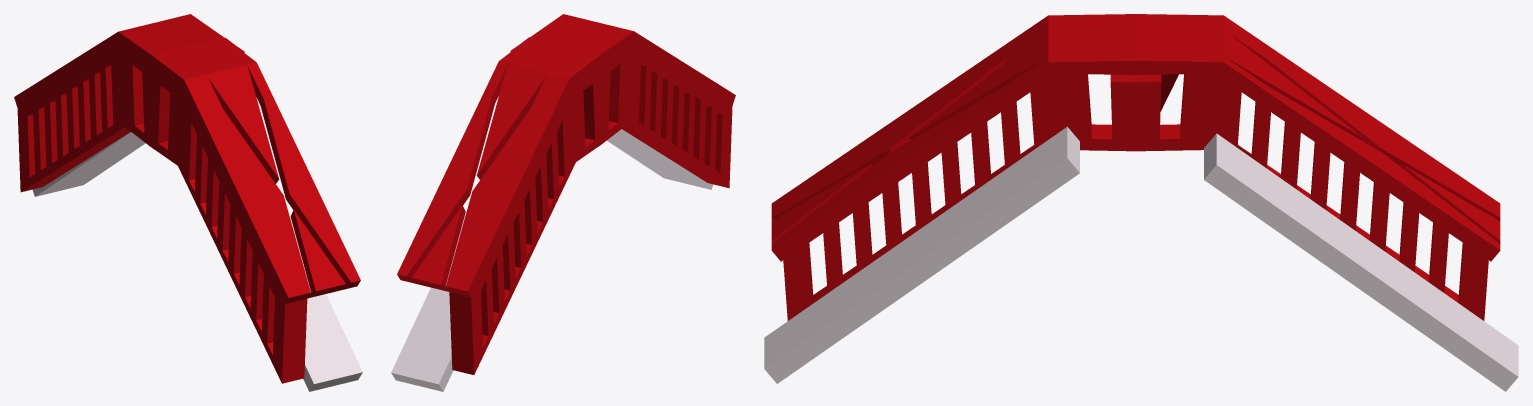
The model's file is 坂ギミック.fbx.
3 renders of one model, left to right at view 1: azimuth 30°, elevation 25°; view 2: azimuth 150°, elevation 25°; view 3: azimuth 270°, elevation 25°, orthographic. The views are drawn at different scales.
Visible parts, largest first — view 1: 立方体, Cube, Cube.001; view 2: 立方体, Cube.001, Cube; view 3: 立方体, Cube, Cube.001.
Boxes of the visible parts, box(x1,y1,x2,y2) form: 立方体: box(14, 14, 360, 383); Cube: box(290, 218, 362, 391); Cube.001: box(32, 132, 145, 196); 立方体: box(397, 14, 735, 374); Cube.001: box(391, 211, 466, 391); Cube: box(607, 129, 713, 189); 立方体: box(771, 14, 1500, 320); Cube: box(764, 126, 1079, 383); Cube.001: box(1204, 133, 1518, 391).
Size of the model in its own units: 413 by 2424 by 1176.
